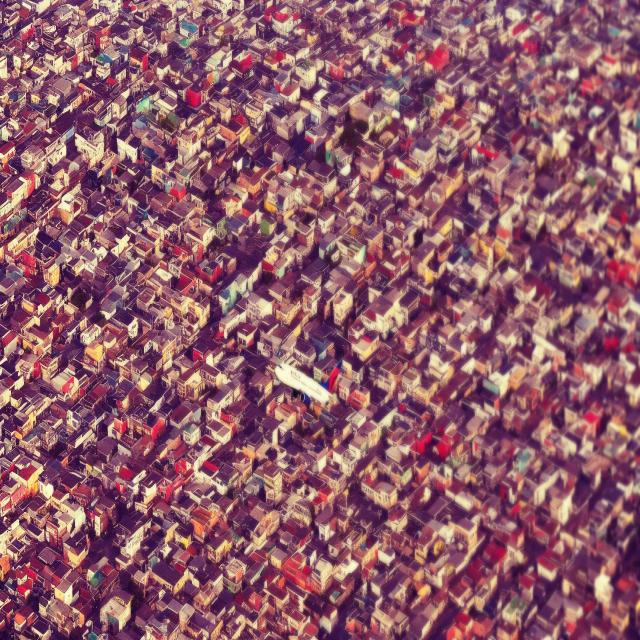airplane: (272, 358, 340, 413)
